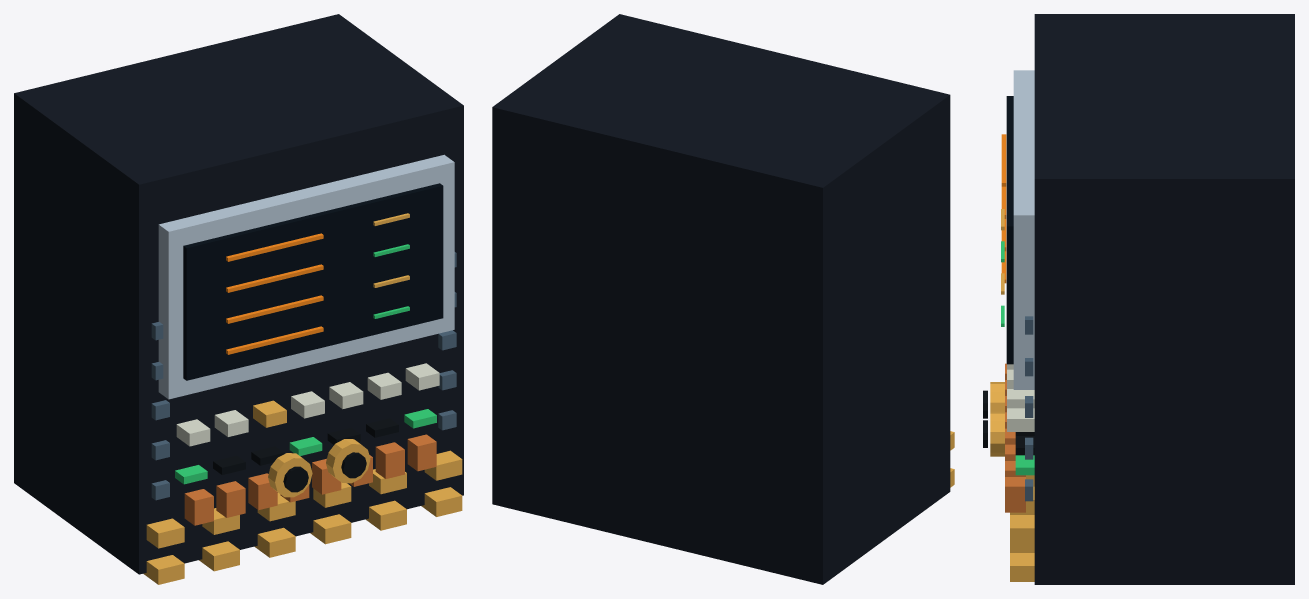
Rendered from 91_L92_IndependentTetherEmergencyControl.fbx.
3 views of the same model, side by side, from view 1: azimuth 30°, elevation 25°; view 2: azimuth 150°, elevation 25°; view 3: azimuth 270°, elevation 25° (orthographic). The views are drawn at different scales.
Visible parts, largest first — view 1: L92_IndependentTetherEmergencyControl, L92_IndependentTetherEmergencyControl_Part_0010, L92_IndependentTetherEmergencyControl_Part_0012; view 2: L92_IndependentTetherEmergencyControl; view 3: L92_IndependentTetherEmergencyControl, L92_IndependentTetherEmergencyControl_Part_0012, L92_IndependentTetherEmergencyControl_Part_0010.
Boxes of the visible parts, x1,y1,x2,y2 form: L92_IndependentTetherEmergencyControl: [14, 14, 463, 584]; L92_IndependentTetherEmergencyControl_Part_0010: [268, 453, 312, 497]; L92_IndependentTetherEmergencyControl_Part_0012: [326, 439, 370, 483]; L92_IndependentTetherEmergencyControl: [492, 14, 954, 584]; L92_IndependentTetherEmergencyControl: [1001, 14, 1294, 584]; L92_IndependentTetherEmergencyControl_Part_0012: [990, 411, 1004, 456]; L92_IndependentTetherEmergencyControl_Part_0010: [990, 382, 1004, 411].
Bounding box in the file's own units: 112 × 130 × 89.6.
